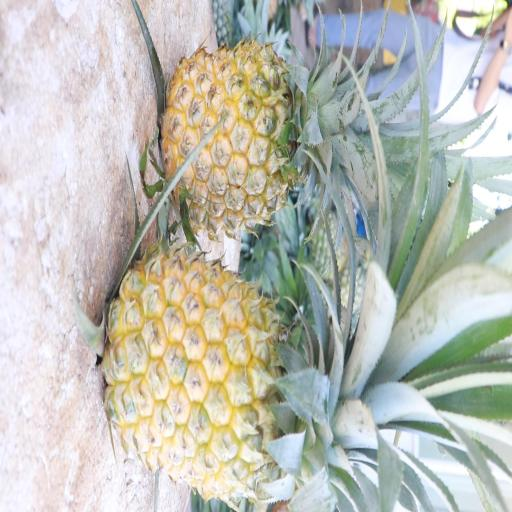Pineapple - v8 v1: (97, 241, 388, 505), (155, 35, 363, 244), (216, 154, 226, 158), (223, 112, 232, 112)
